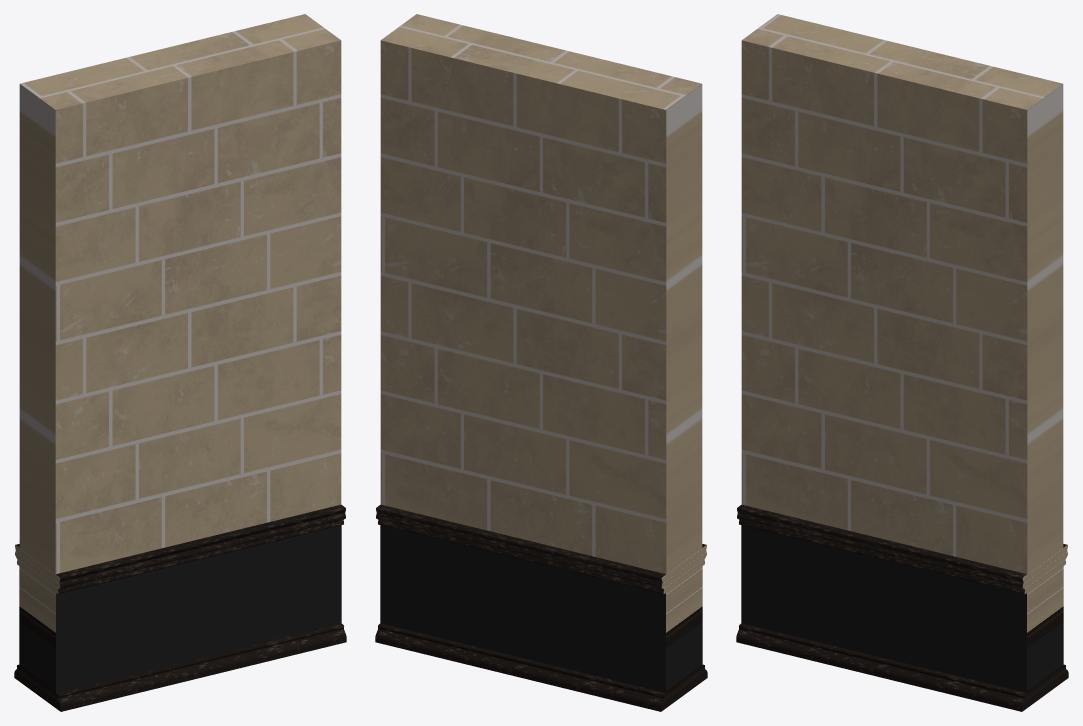
The model's file is SM_Wall_A_4x2.fbx.
The picture shows the model from 3 angles, left to right: view 1: azimuth 30°, elevation 25°; view 2: azimuth 150°, elevation 25°; view 3: azimuth 330°, elevation 25°; orthographic projection.
Parts seen in each view (by area): view 1: SM_Wall_A_4x2; view 2: SM_Wall_A_4x2; view 3: SM_Wall_A_4x2.
Part boxes in pixels (bbox=[...]): SM_Wall_A_4x2: bbox=[14, 14, 346, 711]; SM_Wall_A_4x2: bbox=[375, 14, 707, 711]; SM_Wall_A_4x2: bbox=[736, 14, 1068, 711].
Size of the model in its own units: 200 by 400 by 56.35.
